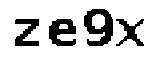9: (82, 7, 113, 48)
e: (48, 16, 78, 51)
x: (113, 16, 145, 48)
z: (11, 15, 40, 52)
